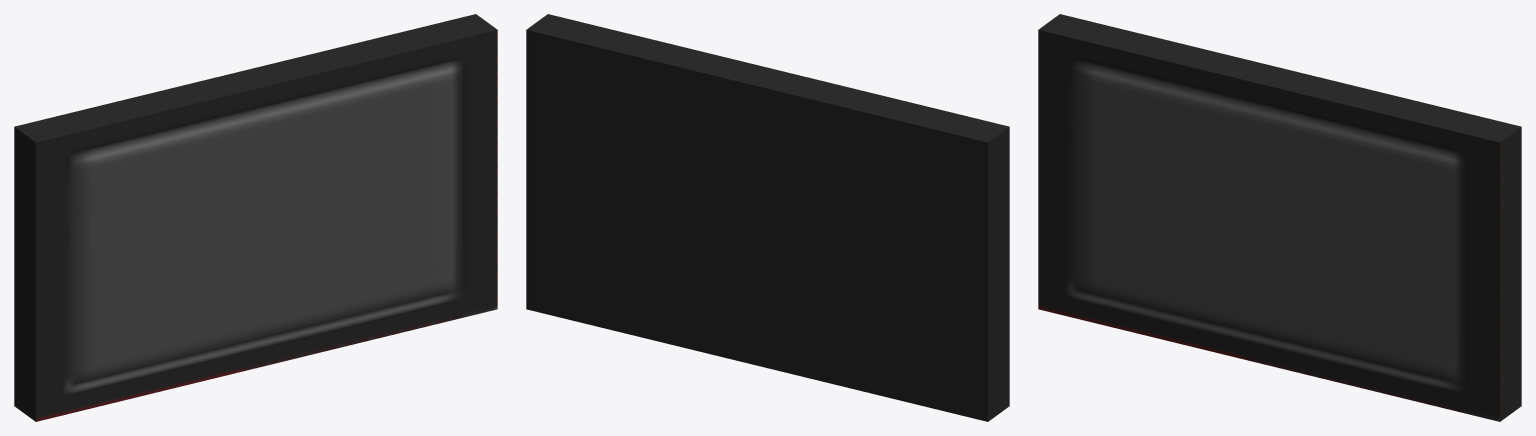
Rendered from TinyTV.fbx.
3 renders of one model, left to right at view 1: azimuth 30°, elevation 25°; view 2: azimuth 150°, elevation 25°; view 3: azimuth 330°, elevation 25°, orthographic.
Visible parts, largest first — view 1: TV; view 2: TV; view 3: TV.
Part boxes in pixels (box(x1,y1,x2,y2)): TV: box(14, 14, 497, 421); TV: box(526, 14, 1009, 421); TV: box(1038, 14, 1521, 421).
Size of the model in its own units: 0.4732 by 0.2736 by 0.0384.
